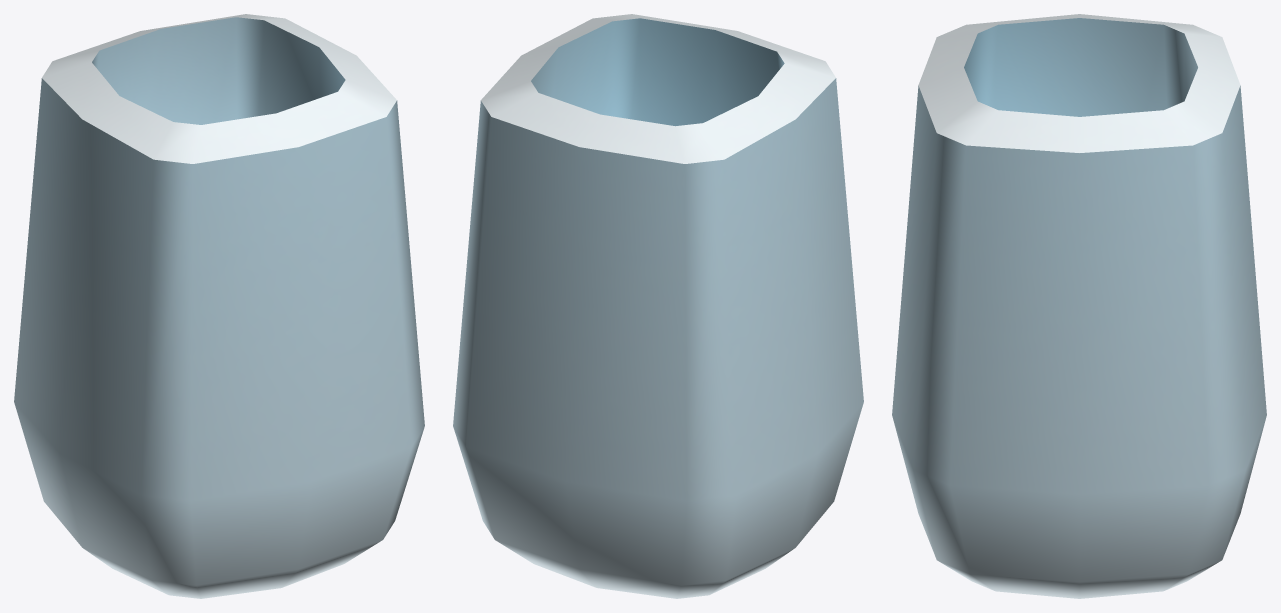
The model's file is glass.fbx.
3 renders of one model, left to right at view 1: azimuth 30°, elevation 25°; view 2: azimuth 150°, elevation 25°; view 3: azimuth 270°, elevation 25°, orthographic.
Visible parts, largest first — view 1: glass; view 2: glass; view 3: glass.
Part boxes in pixels (<box>): glass: <box>14,14,424,598</box>; glass: <box>453,14,863,598</box>; glass: <box>892,14,1266,598</box>.
Size of the model in its own units: 18.35 by 25.85 by 18.36.
